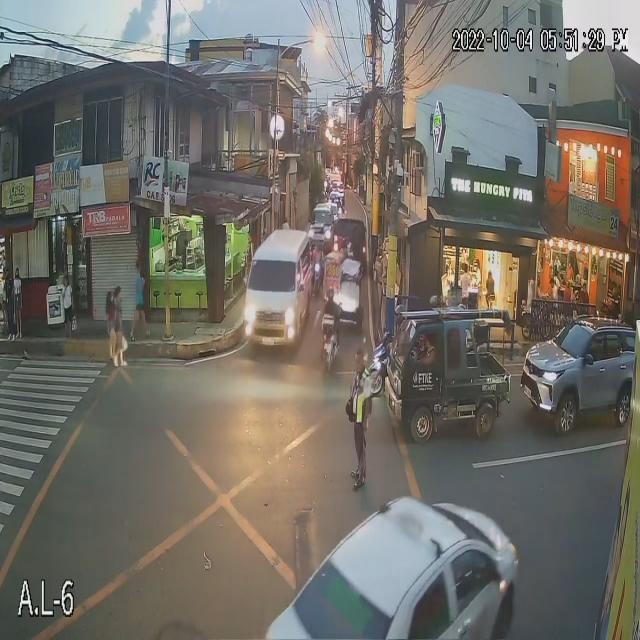helmet: (393, 303, 411, 324), (324, 286, 336, 305)
motorcycle: (362, 351, 423, 398)
rider: (392, 325, 413, 368), (320, 302, 340, 343)
